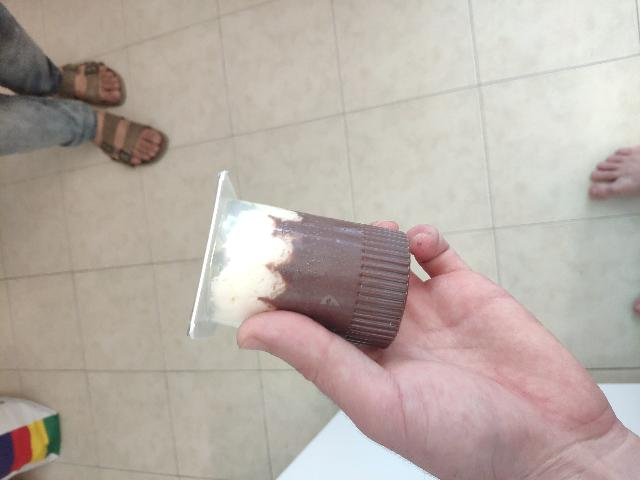milky: (192, 190, 391, 315)
